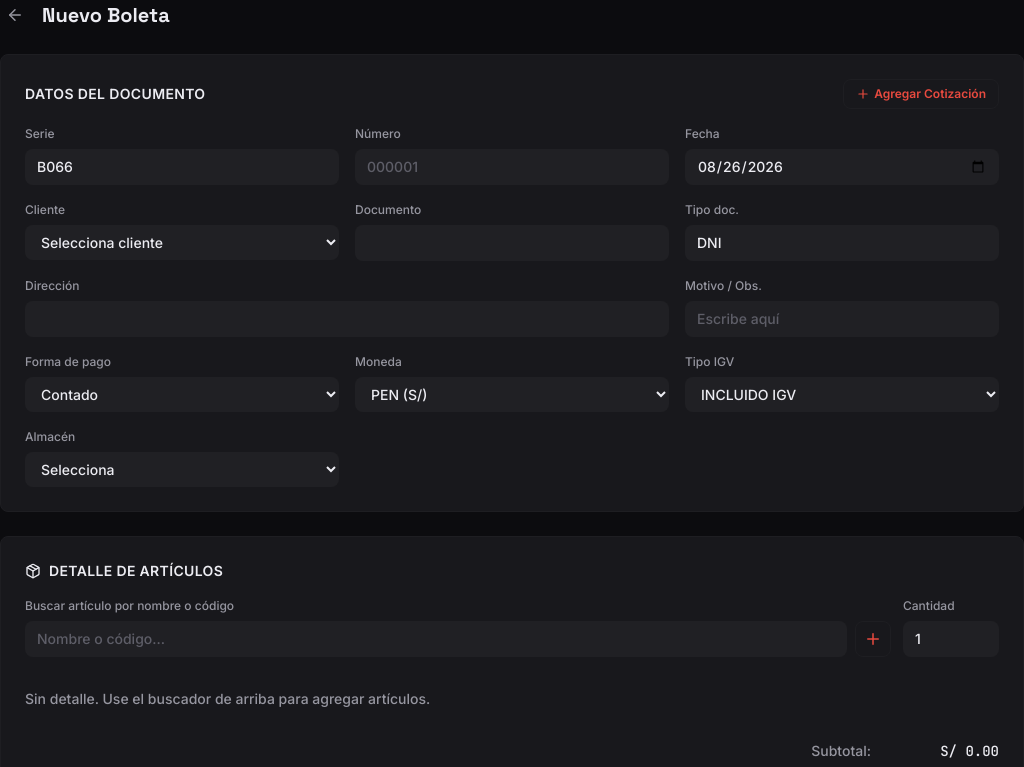
it: Agregar Cotización en ventas de artículos › Boleta: el modal filtra por cliente y por serie/número
The width and height of the screenshot is (1024, 767).
Click the button "Agregar Cotización" at (921,94), box [843, 79, 999, 109]
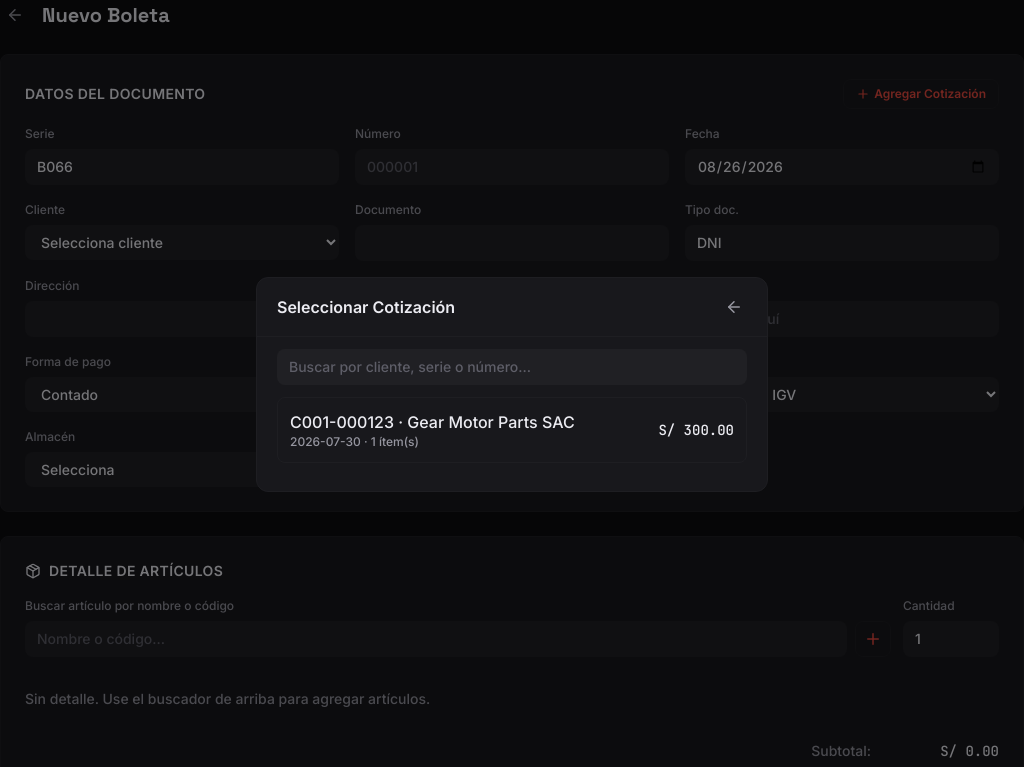
Type "C001-000123" into the field with placeholder "Buscar por cliente, serie o número..." at (512,366), box [277, 348, 747, 384]
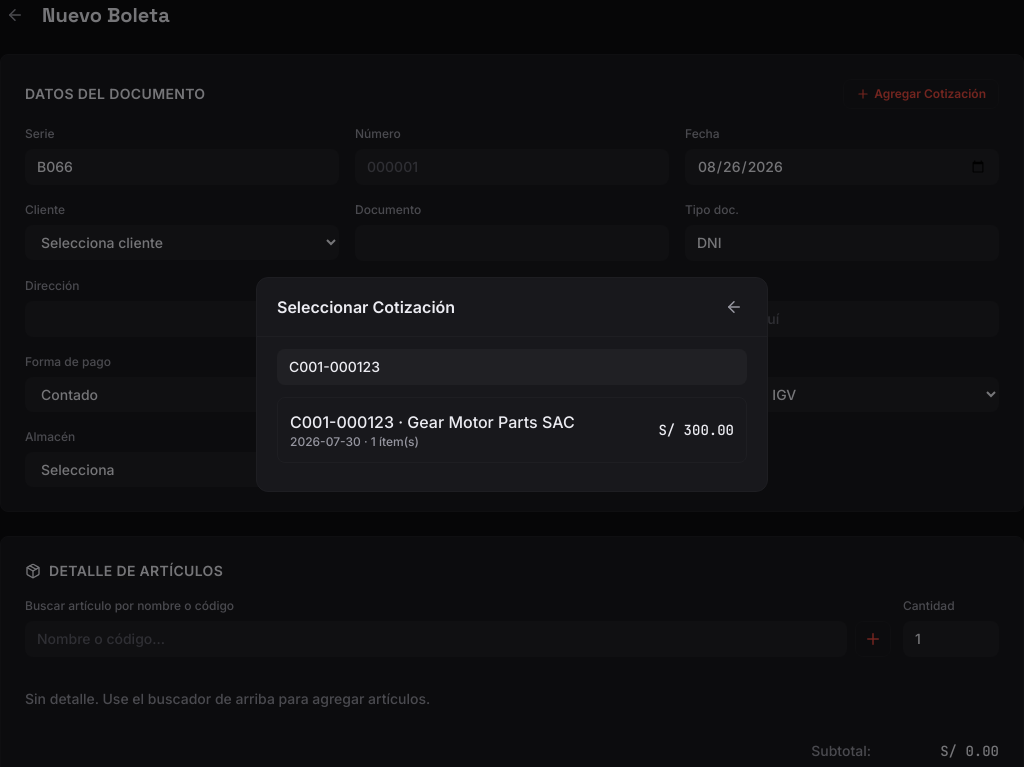
Expected: the text "C001-000123 · Gear Motor Parts SAC" is shown, [290, 410, 575, 434]
Replace the text in the field with placeholder "Buscar por cliente, serie o número..." with "gear" at (512,366), box [277, 348, 747, 384]
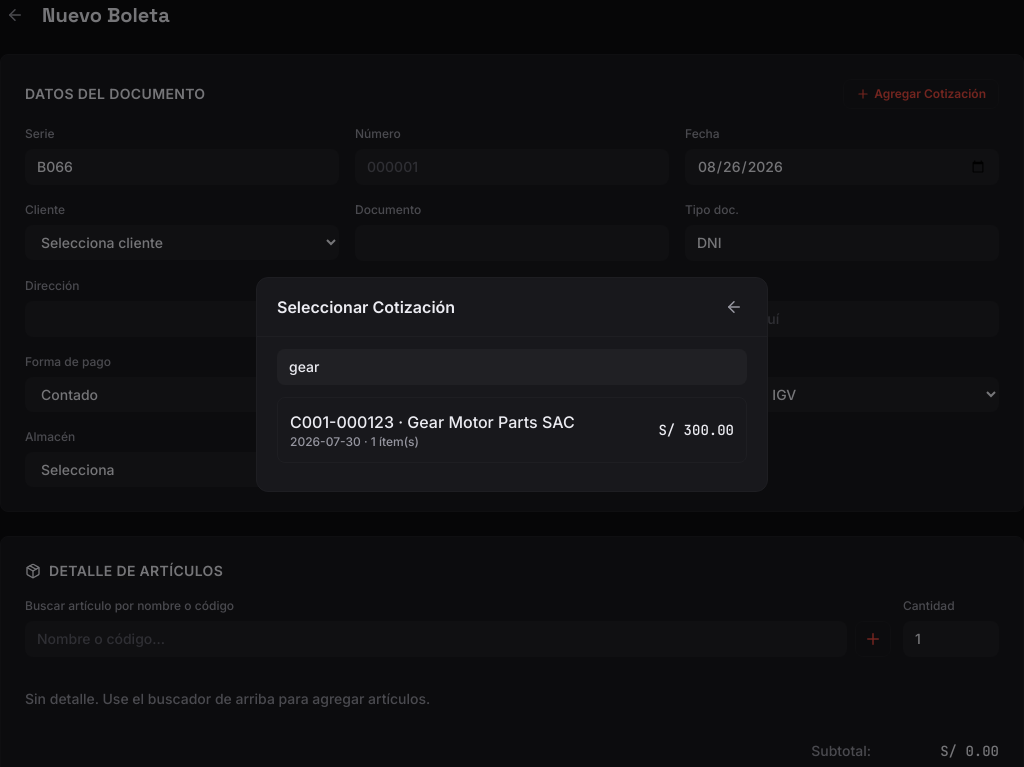
Expected: the text "C001-000123 · Gear Motor Parts SAC" is shown, [290, 410, 575, 434]
Replace the text in the field with placeholder "Buscar por cliente, serie o número..." with "inexistente" at (512,366), box [277, 348, 747, 384]
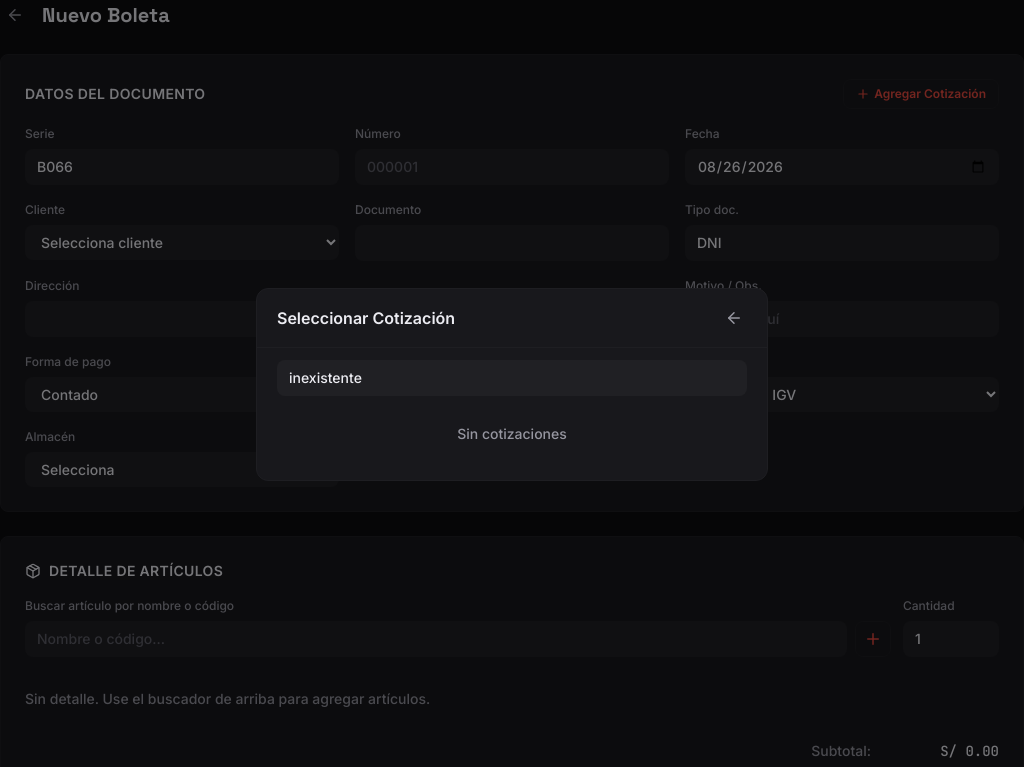
Expected: the text "Sin cotizaciones" is shown, [457, 424, 567, 442]
